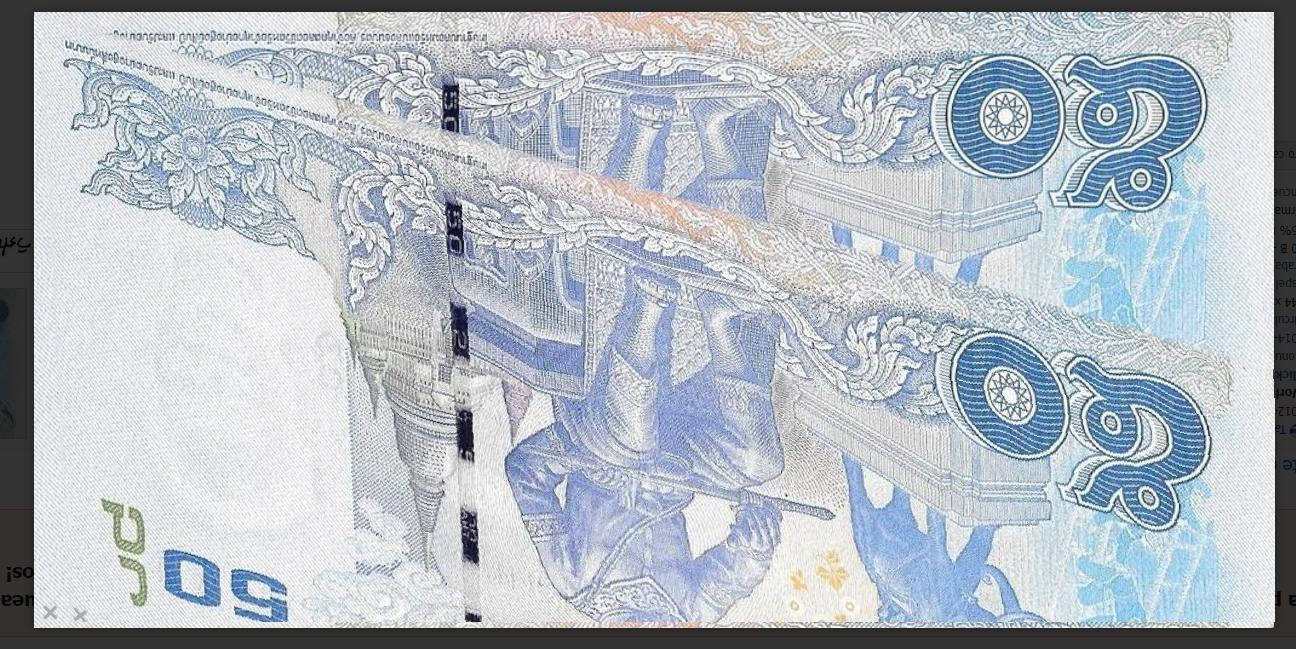50BahtTai: (39, 13, 1276, 622)
